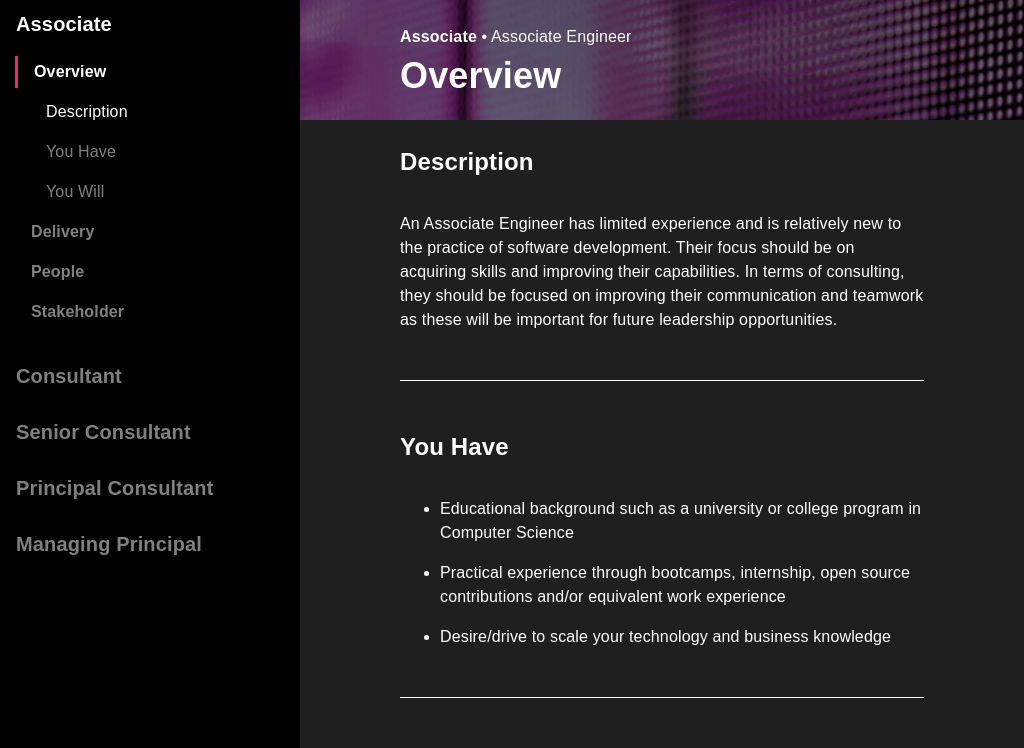
Content › should check that Narrative competency is in ContentContainer when opening Delivery category
Click the button with test id "associate-delivery": (63, 232) [31,223,94,240]
(page scrolled)
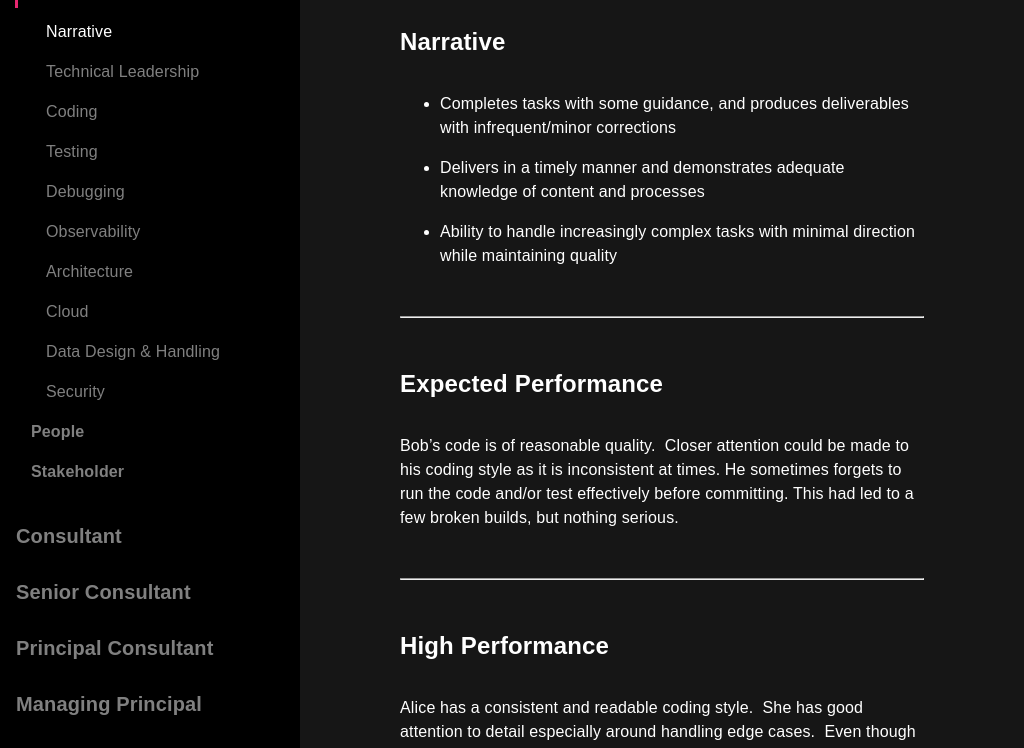
Now the element with class "title" reads "Narrative", box [400,28,505,55]
